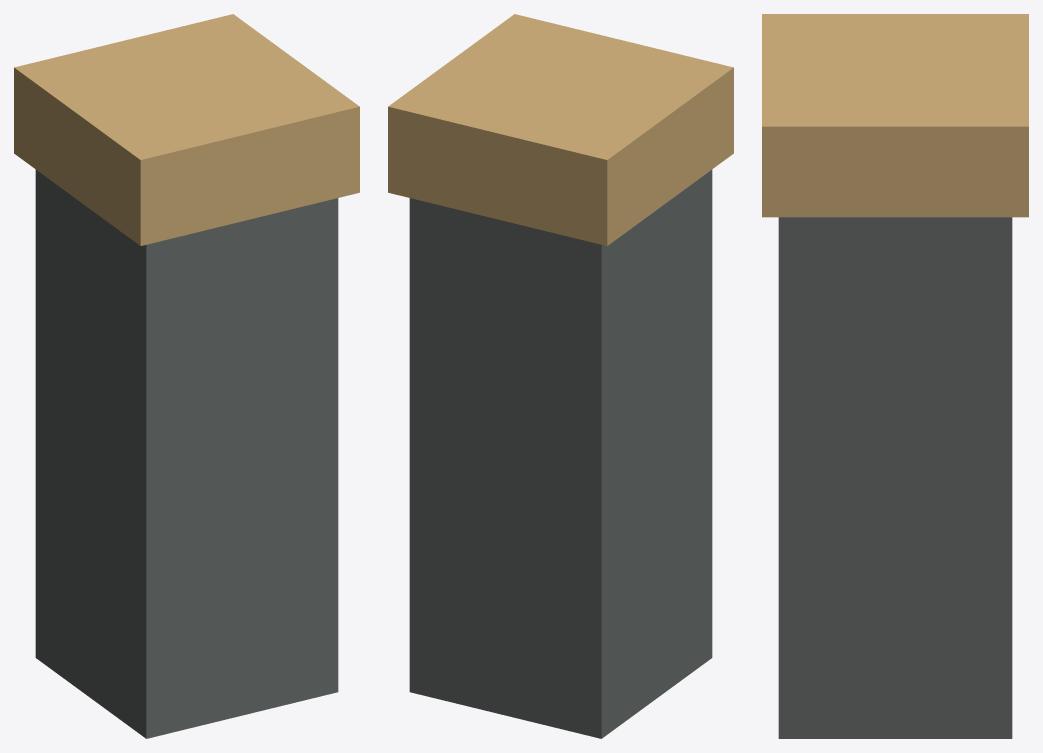
The model's file is SmartWallSingle.fbx.
The picture shows the model from 3 angles, left to right: view 1: azimuth 30°, elevation 25°; view 2: azimuth 150°, elevation 25°; view 3: azimuth 270°, elevation 25°; orthographic projection. The views are drawn at different scales.
Parts seen in each view (by area): view 1: SmartWallSingle; view 2: SmartWallSingle; view 3: SmartWallSingle.
Boxes of the visible parts, x1,y1,x2,y2 form: SmartWallSingle: (14, 14, 359, 738); SmartWallSingle: (388, 14, 733, 738); SmartWallSingle: (762, 14, 1028, 738).
Size of the model in its own units: 32 by 82 by 32.
